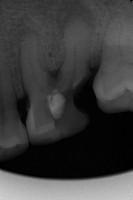Endo-Periodontal Lesion: (46, 68, 60, 85)
Furcation Involvement: (56, 0, 97, 34)
